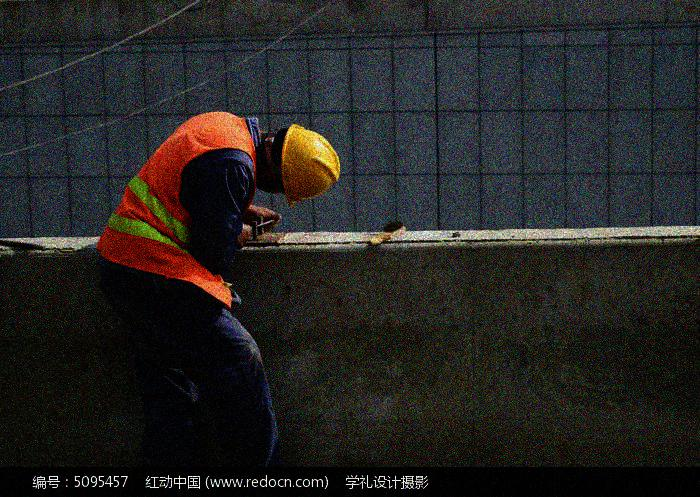helmet: (255, 121, 344, 207)
